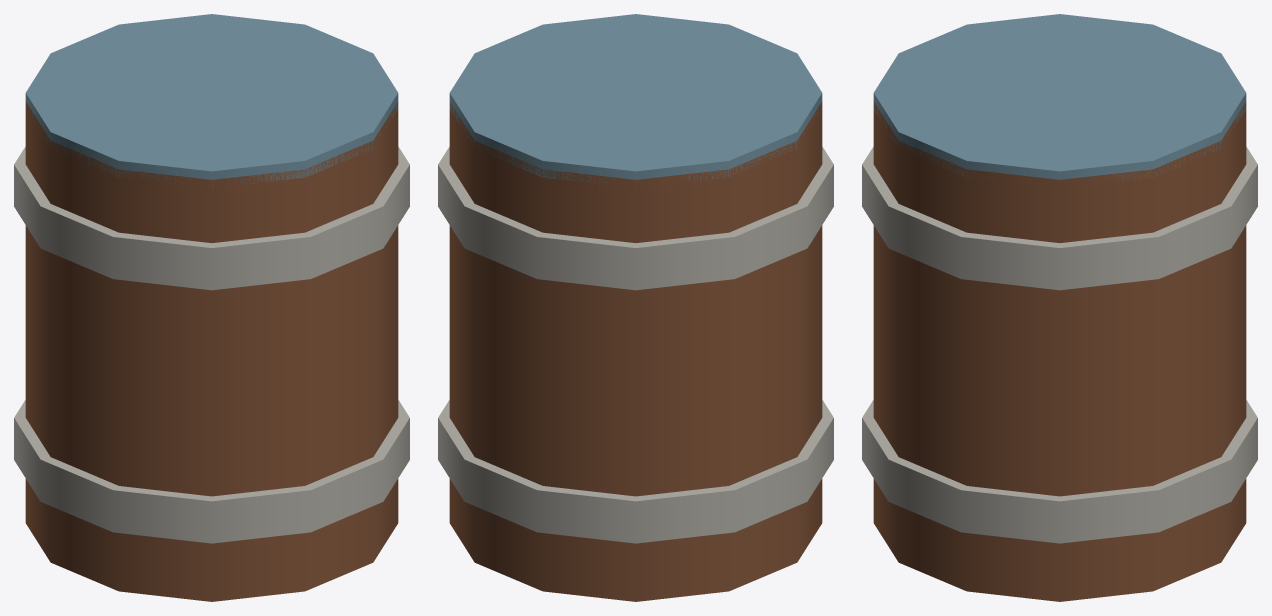
File: rain_barrel.glb
3 views of the same model, side by side, from view 1: azimuth 30°, elevation 25°; view 2: azimuth 150°, elevation 25°; view 3: azimuth 270°, elevation 25° (orthographic).
Visible parts, largest first — view 1: body; view 2: body; view 3: body.
Boxes of the visible parts, <box> form: body: <box>14,14,409,601</box>; body: <box>438,14,833,601</box>; body: <box>862,14,1257,601</box>.
Size of the model in its own units: 0.85 by 1.02 by 0.85.
